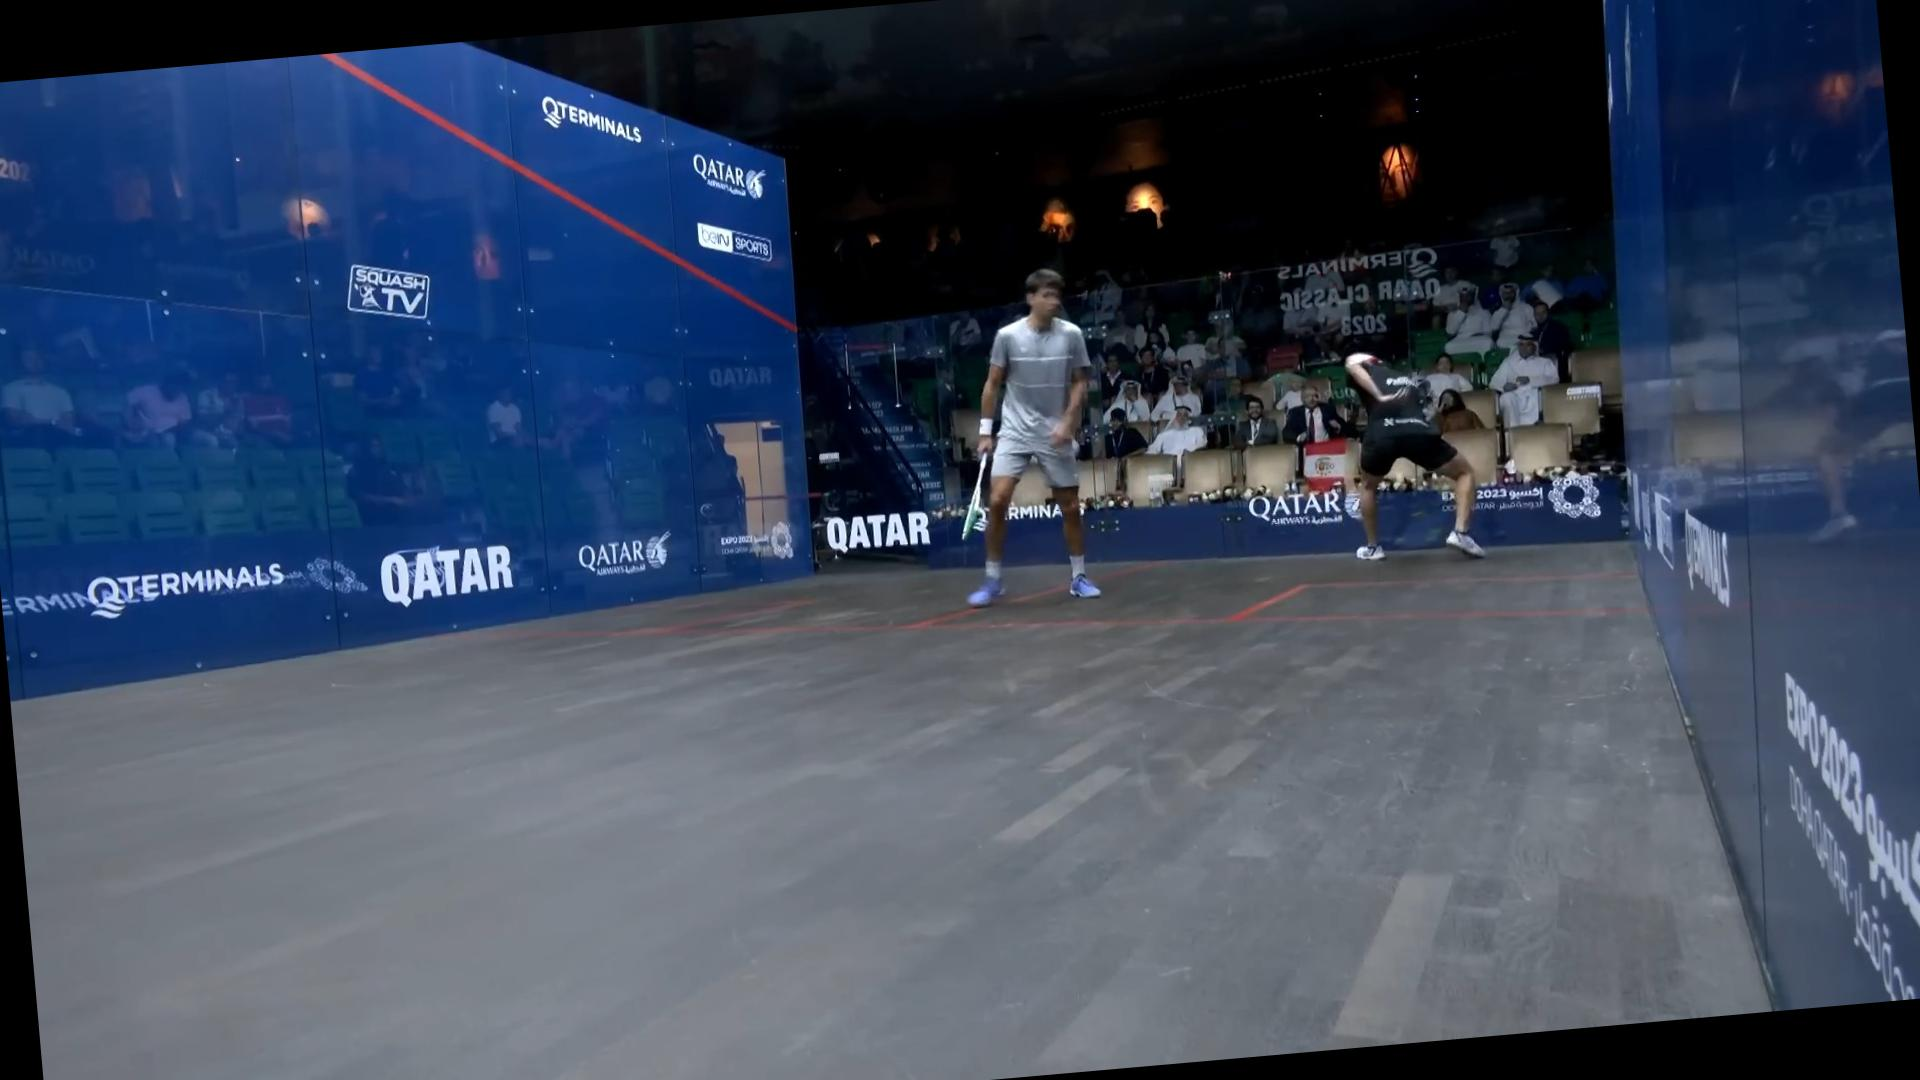Racket: (945, 450, 1005, 543)
